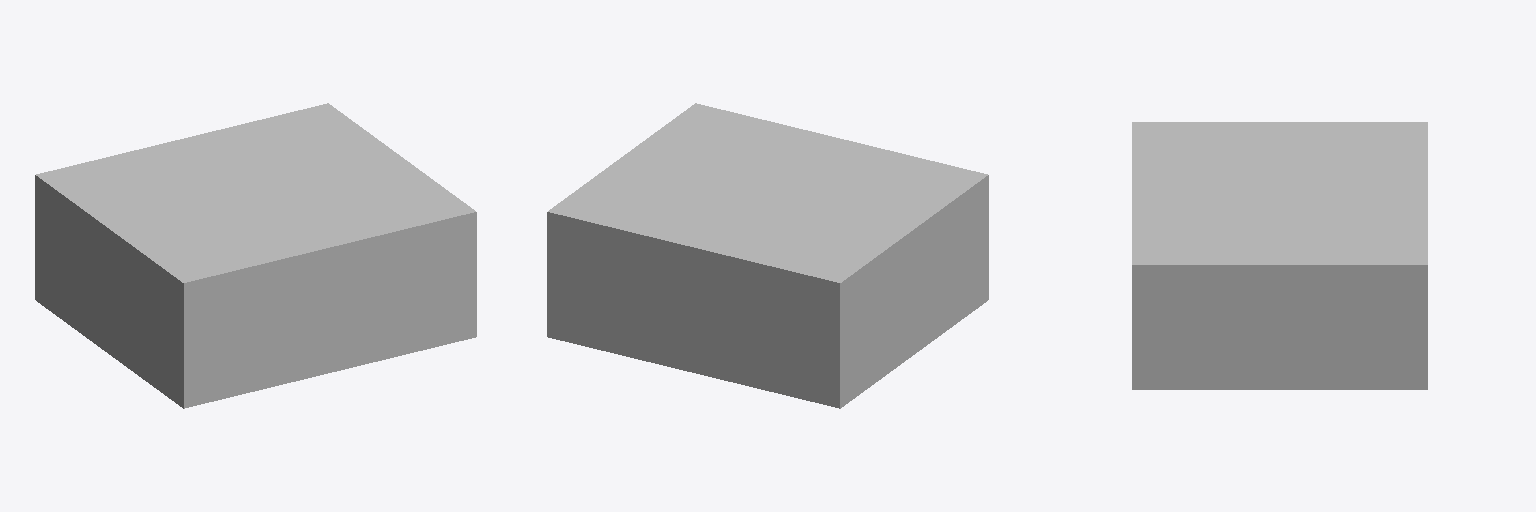
Rendered from stanzaLowPoly_s.obj.
3 views of the same model, side by side, from view 1: azimuth 30°, elevation 25°; view 2: azimuth 150°, elevation 25°; view 3: azimuth 270°, elevation 25° (orthographic).
Parts seen in each view (by area): view 1: stanza_Cube_Cube.001; view 2: stanza_Cube_Cube.001; view 3: stanza_Cube_Cube.001.
Boxes of the visible parts, box(x1,y1,x2,y2) form: stanza_Cube_Cube.001: box(35, 103, 476, 408); stanza_Cube_Cube.001: box(547, 103, 988, 408); stanza_Cube_Cube.001: box(1132, 122, 1427, 389).
Bounding box in the file's own units: 71.49 × 29.23 × 62.63.